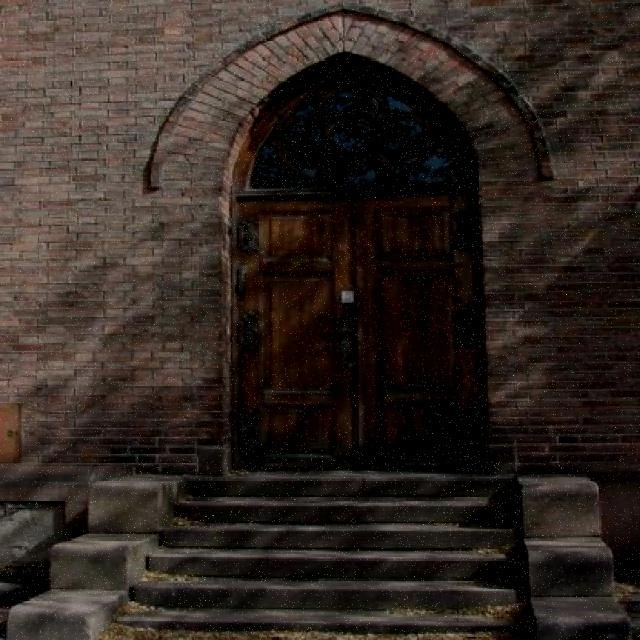stair: (32, 437, 600, 640)
